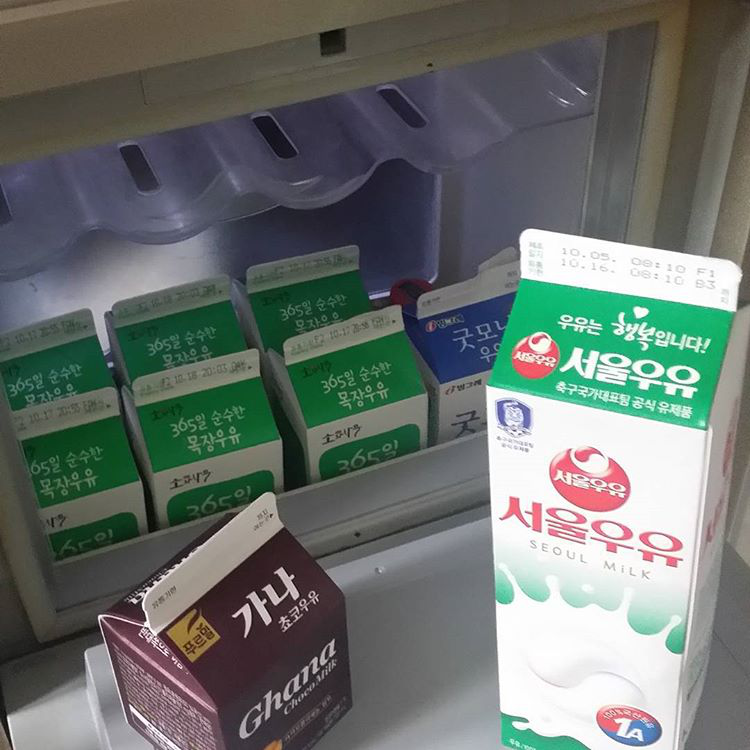milk: (2, 242, 523, 556), (484, 228, 749, 750), (97, 489, 353, 750)
